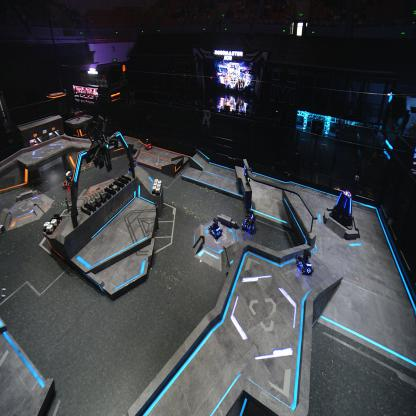car: (296, 249, 314, 276), (241, 207, 256, 235), (208, 217, 223, 240), (126, 156, 138, 177), (62, 169, 74, 190), (144, 137, 152, 150)
